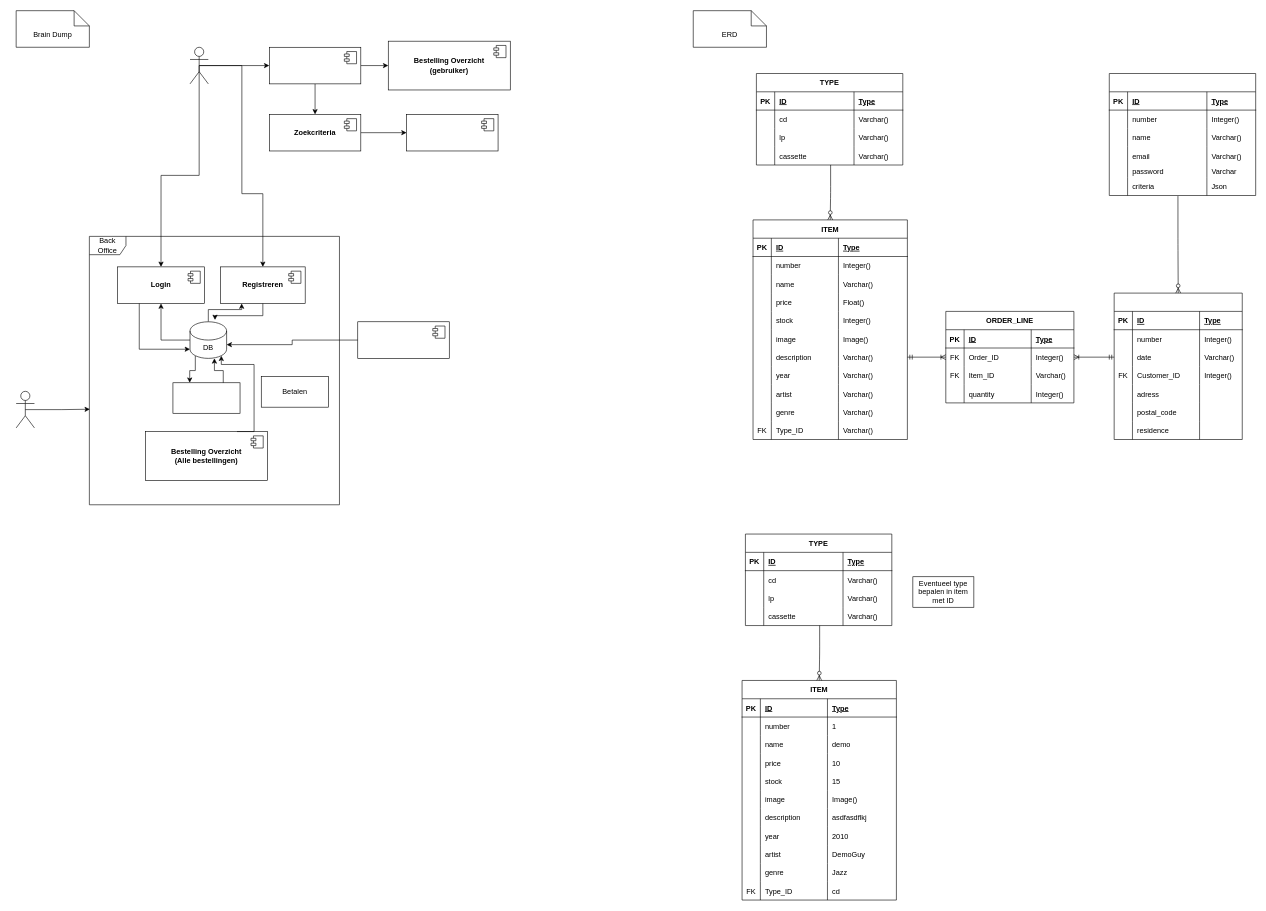
Some shapes in this 1266 by 911 pixel diagram are drawn without their labels. Each missing label, with the box of its shape:
Catalogus: (172, 382, 240, 413)
CUSTOMER: (1109, 73, 1256, 196)
Eigenaar: (16, 391, 34, 428)
Item Zoeker: (406, 114, 498, 151)
Klant: (189, 47, 208, 84)
ORDER: (1114, 292, 1242, 440)
Profiel: (269, 47, 361, 84)
Winkelmand: (357, 321, 449, 358)
